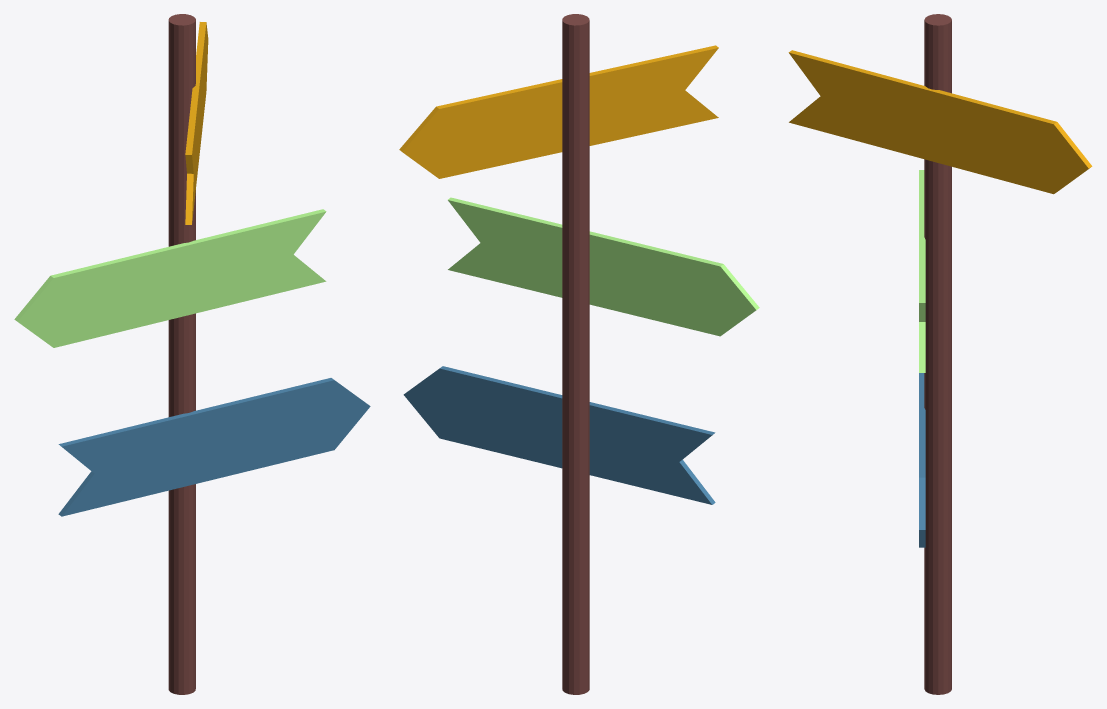
The model's file is Placa.fbx.
3 views of the same model, side by side, from view 1: azimuth 30°, elevation 25°; view 2: azimuth 150°, elevation 25°; view 3: azimuth 270°, elevation 25° (orthographic).
Parts seen in each view (by area): view 1: Cylinder; view 2: Cylinder; view 3: Cylinder.
Boxes of the visible parts, bbox=[...] form: Cylinder: bbox=[14, 14, 370, 694]; Cylinder: bbox=[399, 14, 759, 694]; Cylinder: bbox=[788, 14, 1092, 694].
Size of the model in its own units: 0.9303 by 1.69 by 0.6939.
